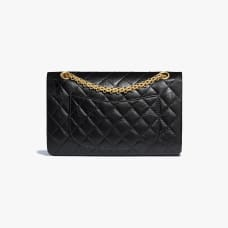channel: (44, 69, 194, 168), (47, 92, 172, 153)
